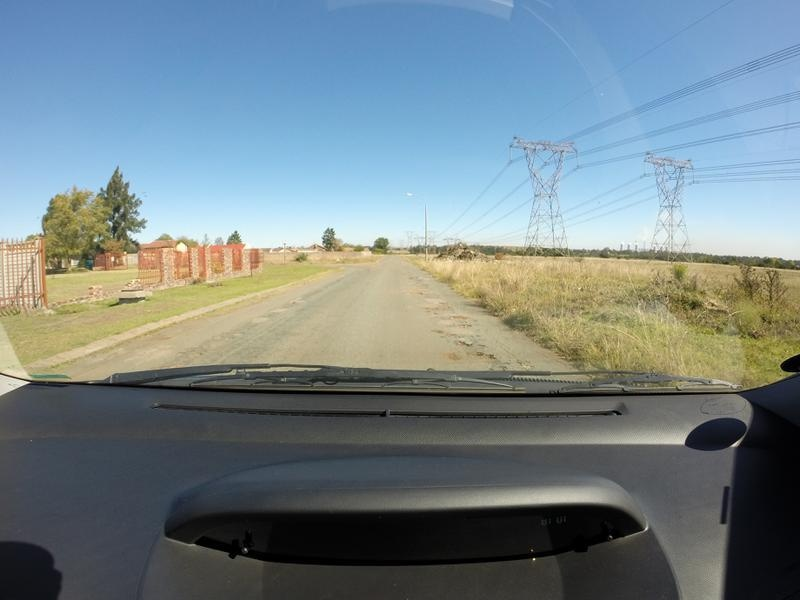pothole: (467, 350, 493, 363), (427, 329, 453, 337), (423, 305, 438, 313), (444, 314, 466, 319), (447, 349, 456, 360), (452, 341, 471, 346), (516, 358, 525, 368), (471, 340, 485, 345)
